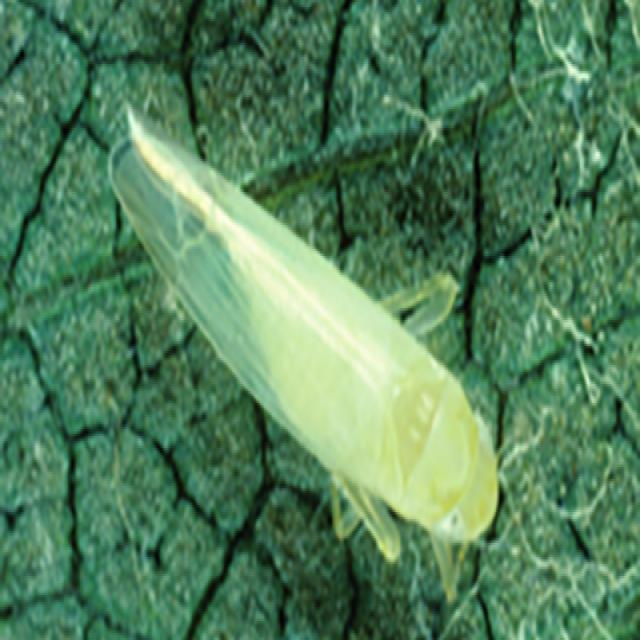Yechan: (101, 99, 508, 557)
